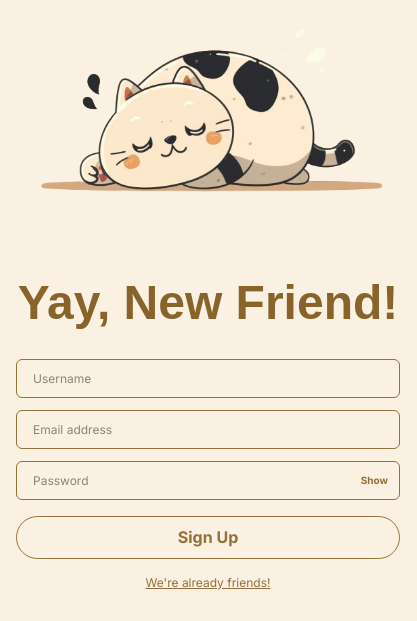
Test: RegisterPage › shows a fallback error when the API response is not JSON
Type "newuser" into the field with placeholder "Username".
click(208, 378); type("newuser")  # box [16,359,400,398]
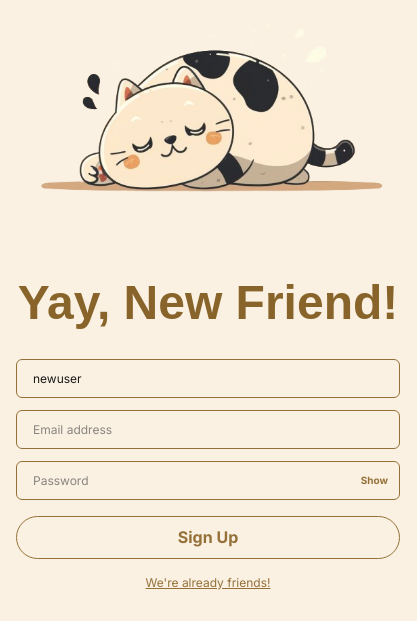
Type "new@example.com" into the field with placeholder "Email address".
click(208, 429); type("new@example.com")  # box [16,410,400,449]
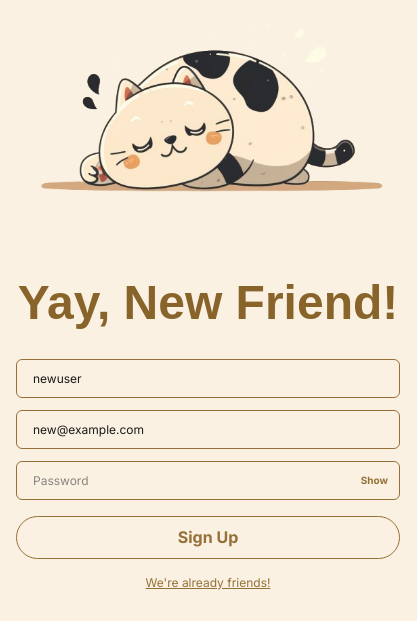
Type "password123" into the password field with placeholder "Password".
click(208, 480); type("password123")  # box [16,461,400,500]
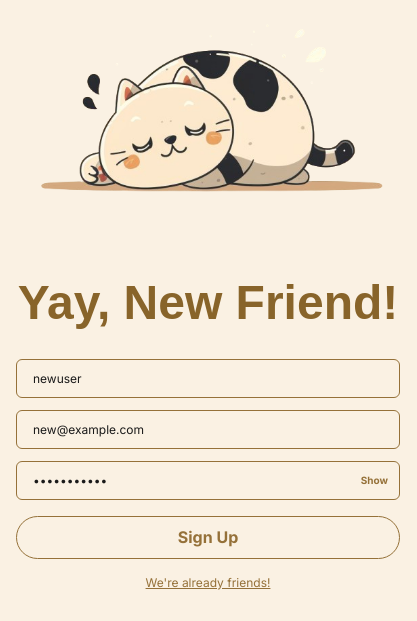
Click the button "Sign Up".
click(208, 537)  # box [16,516,400,559]
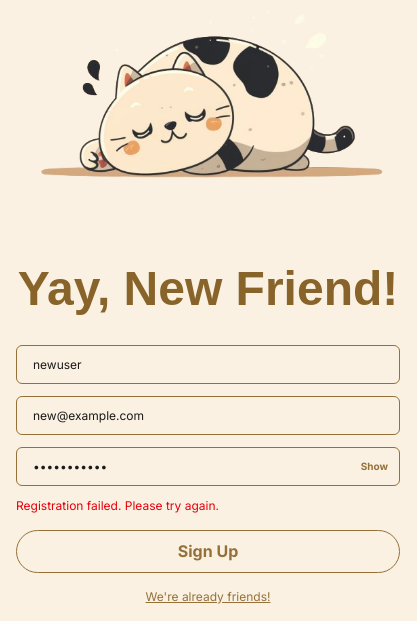
Result: the text "Registration failed. Please try again." is shown at [16,498,219,513]
